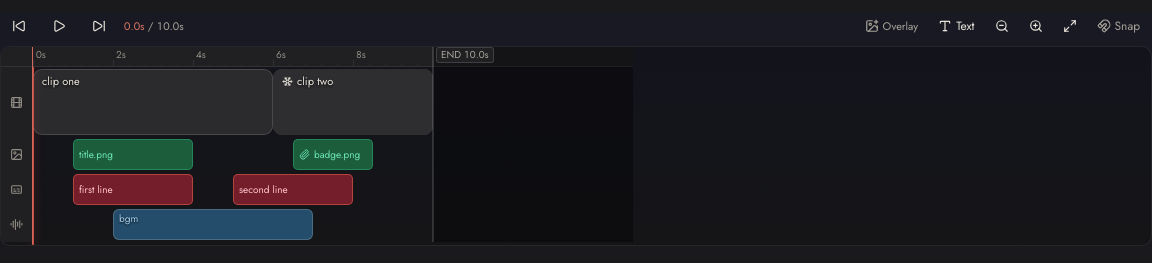
Test: 浮動時長/起點 badge（Plan 11 Task 2 裁決 2） › trim 拖曳中出現 badge，內容含時長與帶號增減
Press the mouse on the 2nd element with class "handle" at [270, 102], box [267,69,273,135]
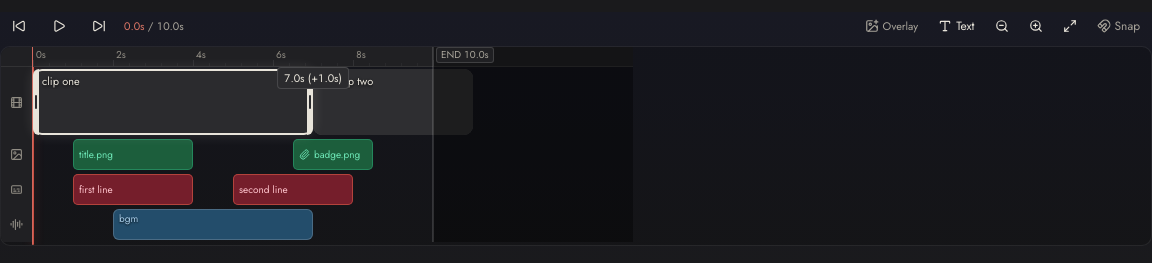
Result: the text "7.0s (+1.0s)" is shown at [277,67,349,89]
